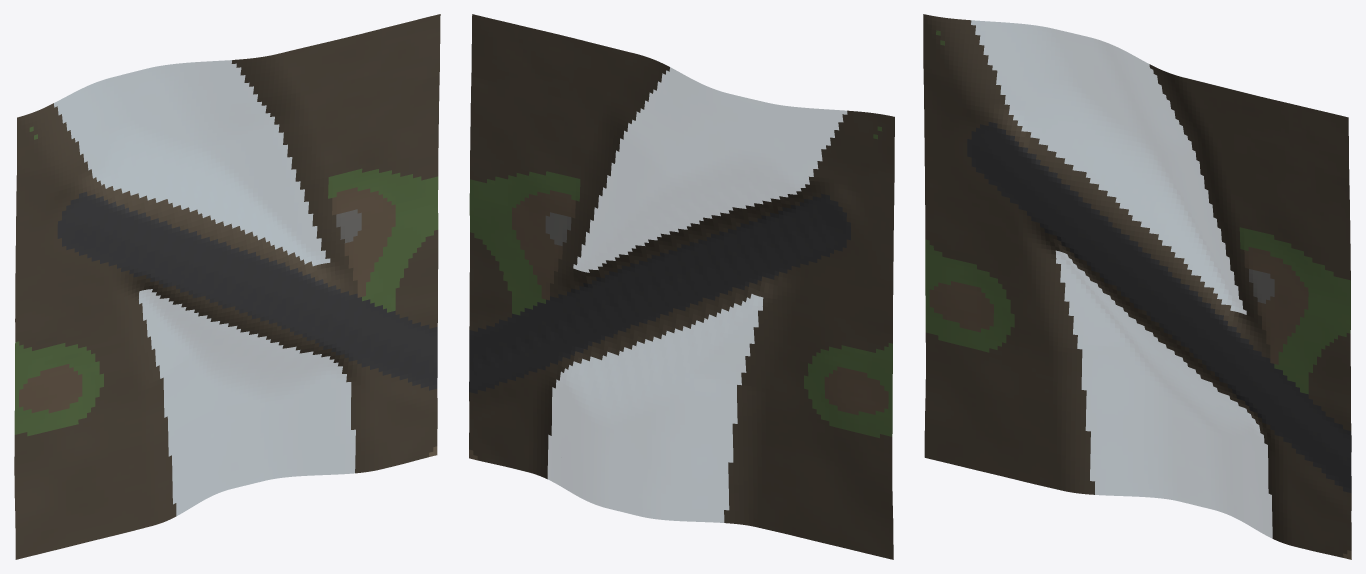
Rendered from SARM_SAR_Terrain_00_02.glb.
3 views of the same model, side by side, from view 1: azimuth 30°, elevation 25°; view 2: azimuth 150°, elevation 25°; view 3: azimuth 330°, elevation 25° (orthographic).
Parts seen in each view (by area): view 1: SAR_Terrain_00_02.001; view 2: SAR_Terrain_00_02.001; view 3: SAR_Terrain_00_02.001.
Boxes of the visible parts, x1,y1,x2,y2 form: SAR_Terrain_00_02.001: (14, 14, 440, 559); SAR_Terrain_00_02.001: (469, 14, 894, 559); SAR_Terrain_00_02.001: (923, 14, 1351, 559).
Bounding box in the file's own units: 50 × 50 × 4.19.
